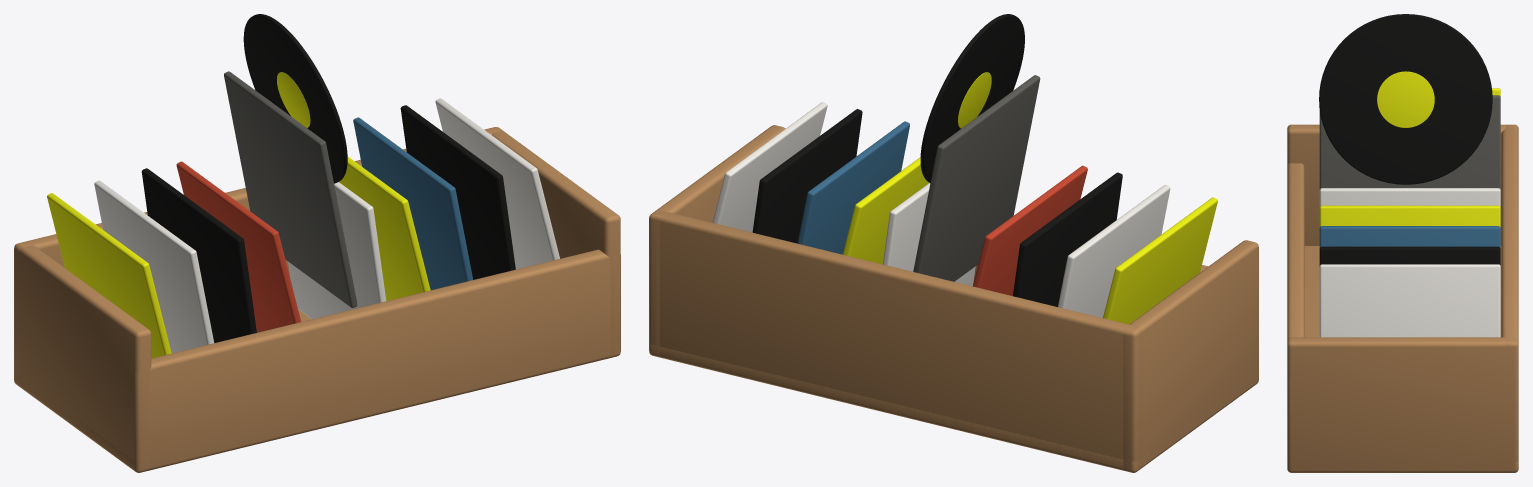
The model's file is inventory.glb.
3 renders of one model, left to right at view 1: azimuth 30°, elevation 25°; view 2: azimuth 150°, elevation 25°; view 3: azimuth 270°, elevation 25°, orthographic. The views are drawn at different scales.
Parts seen in each view (by area): view 1: box.003, box.001, box.009, box.007, box.013, box.006, box.012, box.005, cyl, box.008, box.014, box.002 (+4 smaller); view 2: box.004, box.001, box.009, box.005, cyl, box.013, box.007, box.012, box.006, box, box.014, box.008 (+4 smaller); view 3: box.002, cyl, box.014, box.009, box.004, box.012, box.011, box.003, box.013, box.010, box.001, cyl.001 (+1 smaller).
Boxes of the visible parts, bbox=[...] form: box.003: bbox=[131, 249, 620, 472]; box.001: bbox=[14, 241, 151, 472]; box.009: bbox=[224, 71, 357, 307]; box.007: bbox=[141, 168, 256, 342]; box.013: bbox=[400, 105, 515, 279]; box.006: bbox=[94, 180, 214, 353]; box.012: bbox=[353, 117, 473, 290]; box.005: bbox=[47, 193, 171, 358]; cyl: bbox=[243, 14, 347, 183]; box.008: bbox=[176, 161, 300, 332]; box.014: bbox=[435, 98, 559, 269]; box.002: bbox=[487, 127, 620, 357]; box.004: bbox=[649, 210, 1142, 471]; box.001: bbox=[1123, 240, 1258, 472]; box.009: bbox=[913, 75, 1040, 281]; box.005: bbox=[1103, 197, 1217, 324]; cyl: bbox=[920, 14, 1024, 182]; box.013: bbox=[752, 109, 862, 243]; box.007: bbox=[1013, 172, 1122, 306]; box.012: bbox=[797, 121, 909, 254]; box.006: bbox=[1058, 185, 1170, 317]; box: bbox=[649, 343, 1257, 472]; box.014: bbox=[712, 102, 827, 232]; box.008: bbox=[973, 165, 1087, 295]; box.002: bbox=[1287, 337, 1517, 472]; cyl: bbox=[1319, 14, 1492, 184]; box.014: bbox=[1319, 264, 1500, 337]; box.009: bbox=[1319, 95, 1500, 189]; box.004: bbox=[1501, 124, 1518, 472]; box.012: bbox=[1319, 226, 1500, 248]; box.011: bbox=[1319, 205, 1500, 227]; box.003: bbox=[1287, 163, 1304, 472]; box.013: bbox=[1319, 246, 1500, 265]; box.010: bbox=[1319, 188, 1500, 207]; box.001: bbox=[1287, 124, 1516, 245]; cyl.001: bbox=[1377, 71, 1434, 127].
Size of the model in its own units: 3.6 by 2.53 by 1.6.
